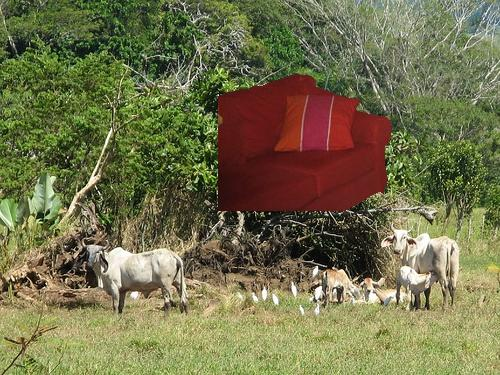tampered: (219, 75, 391, 211)
